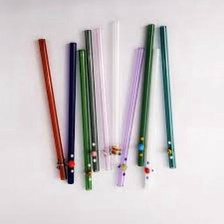drinking_straw: (113, 43, 148, 191), (36, 37, 69, 184), (155, 23, 182, 173), (73, 47, 95, 192)
